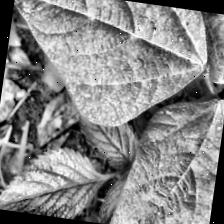Bean Rust: (0, 0, 214, 140), (106, 88, 224, 224), (146, 5, 224, 88)
